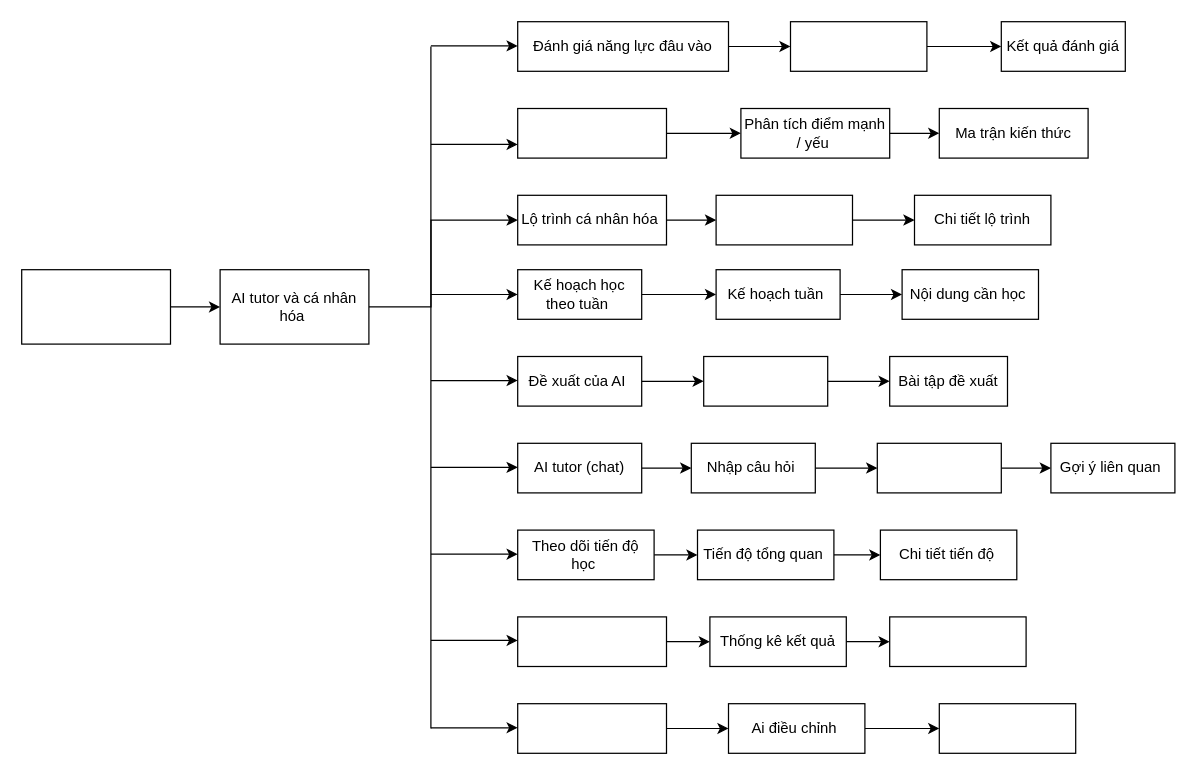
The diagram is 1197 pixels wide and 775 high, and some of its shapes have lost their labels. Each missing label, with the centre of its shape:
AI phân tích: [591,132]
AI trả lời: [938,467]
Bài học đề xuất: [765,380]
Làm bài đánh giá: [858,45]
Lộ trình mới: [1007,727]
Lộ trình đề xuất: [783,219]
Nhận xét và gợi ý: [957,641]
Phân tích kết quả: [591,641]
Điều chỉnh lộ trình: [591,727]
Đăng nhập: [95,306]
